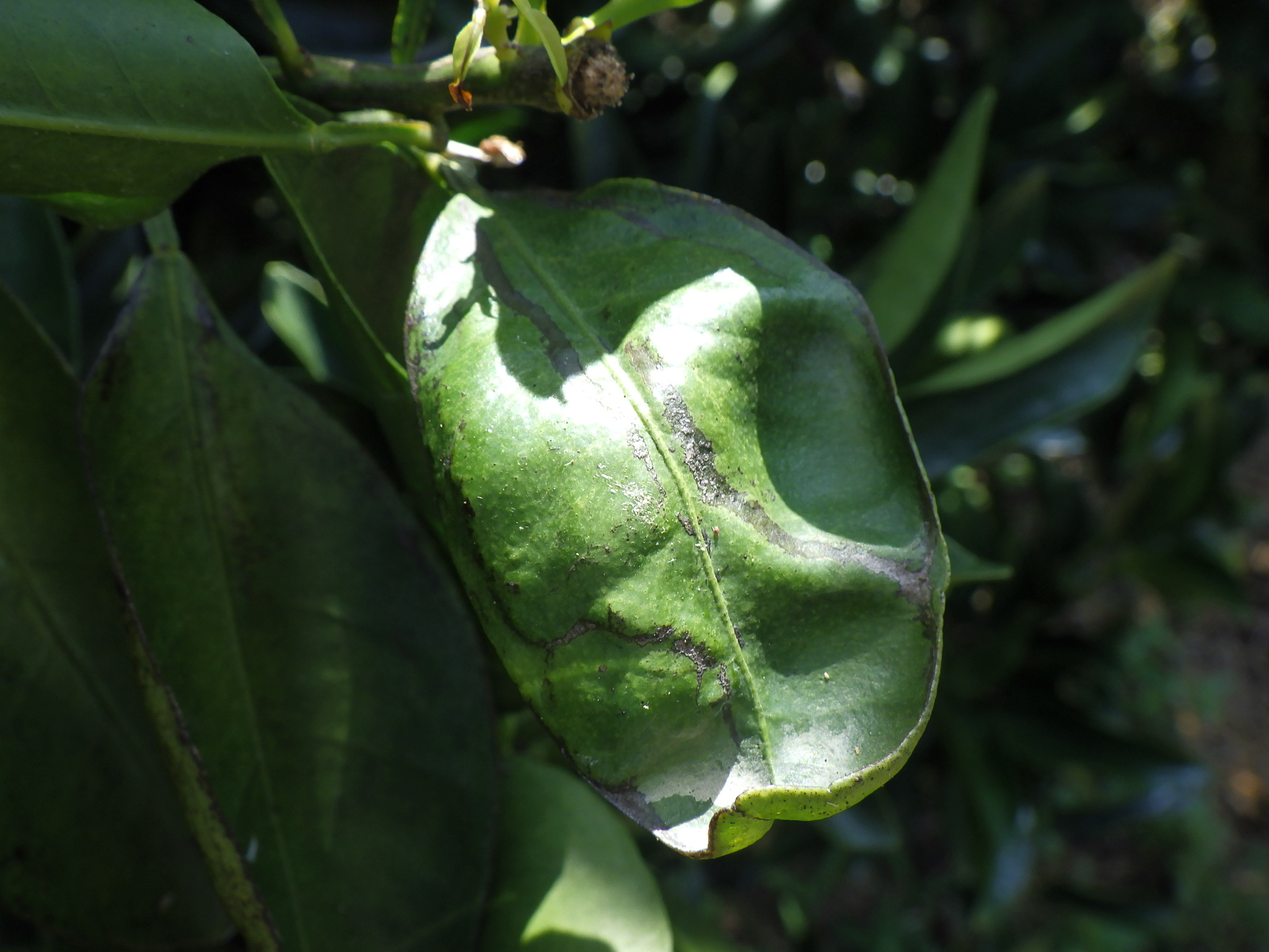Thrips_Damage: (462, 262, 845, 832)
